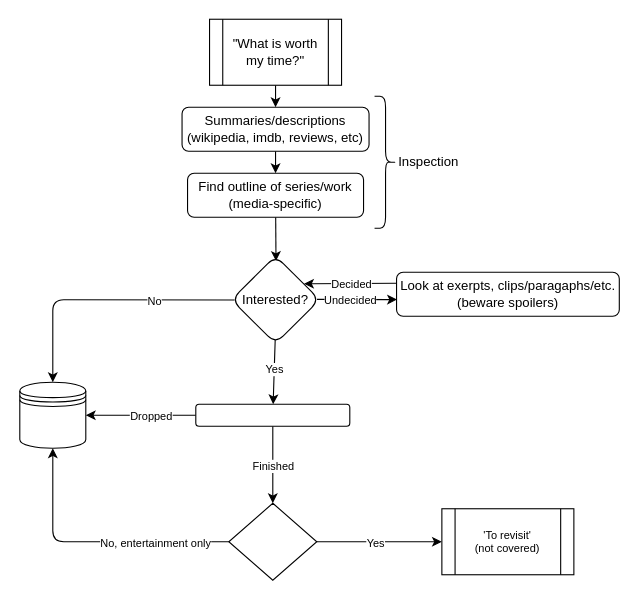
Some shapes in this 638 by 600 pixel diagram are drawn without their labels. The shapes that lost their labels are listed below. From the top down, each one's box as (x1, y1, x2, y2) in pixels, then its label:
(19, 381, 86, 448): Next work
(195, 403, 350, 426): Consume as fast as enjoyable
(228, 502, 317, 580): Worth analysis?
